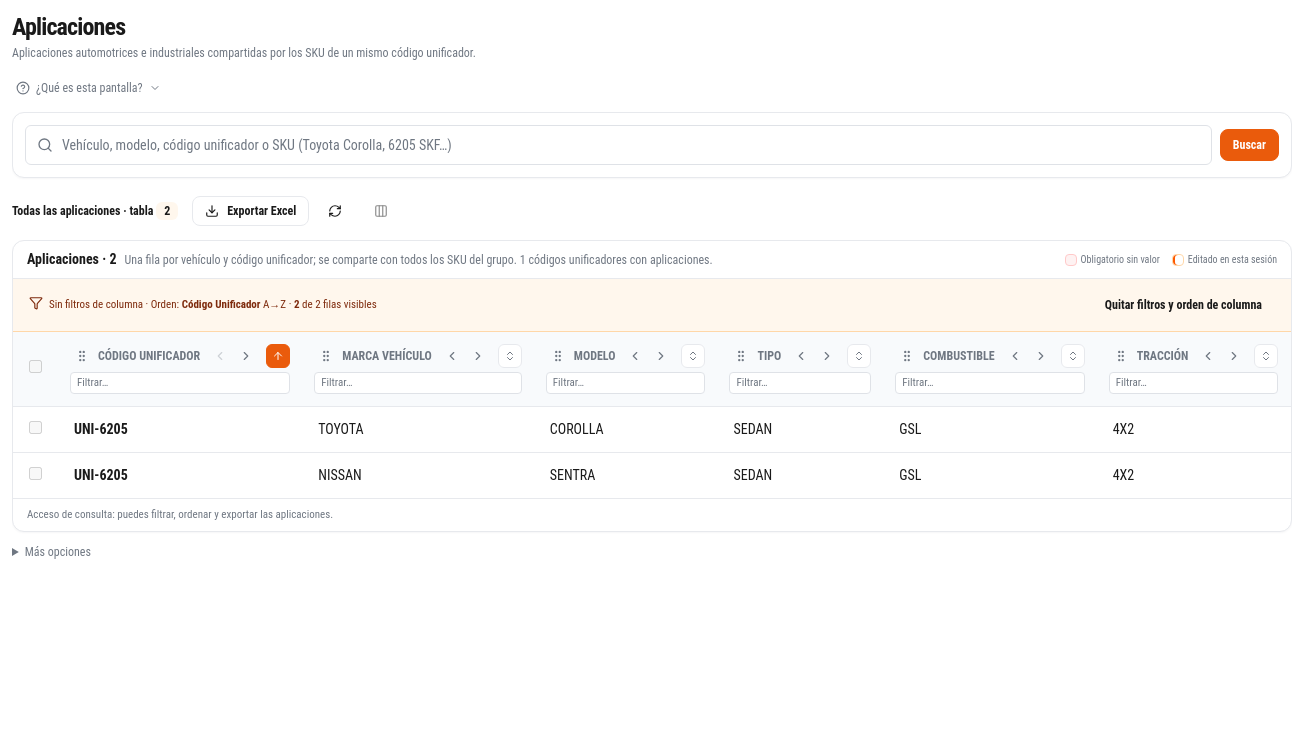
applications reference layout › combines vehicle terms across columns and clears its active search without a catalog lookup
Replace the text in the search field named "Buscar aplicaciones" with "toyota corolla 2014". click: (618, 144)
box: [25, 124, 1212, 164]
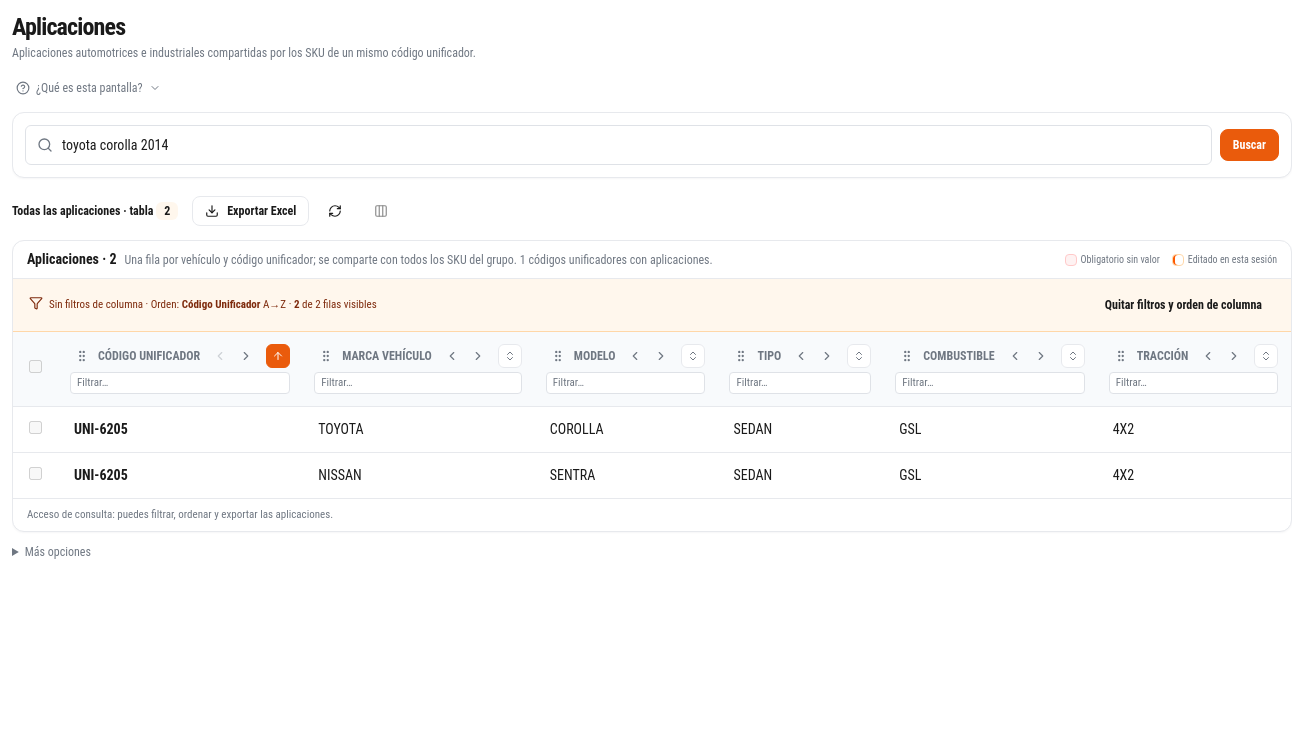
Click the button "Buscar". click: click(1249, 144)
box: [1220, 128, 1279, 160]
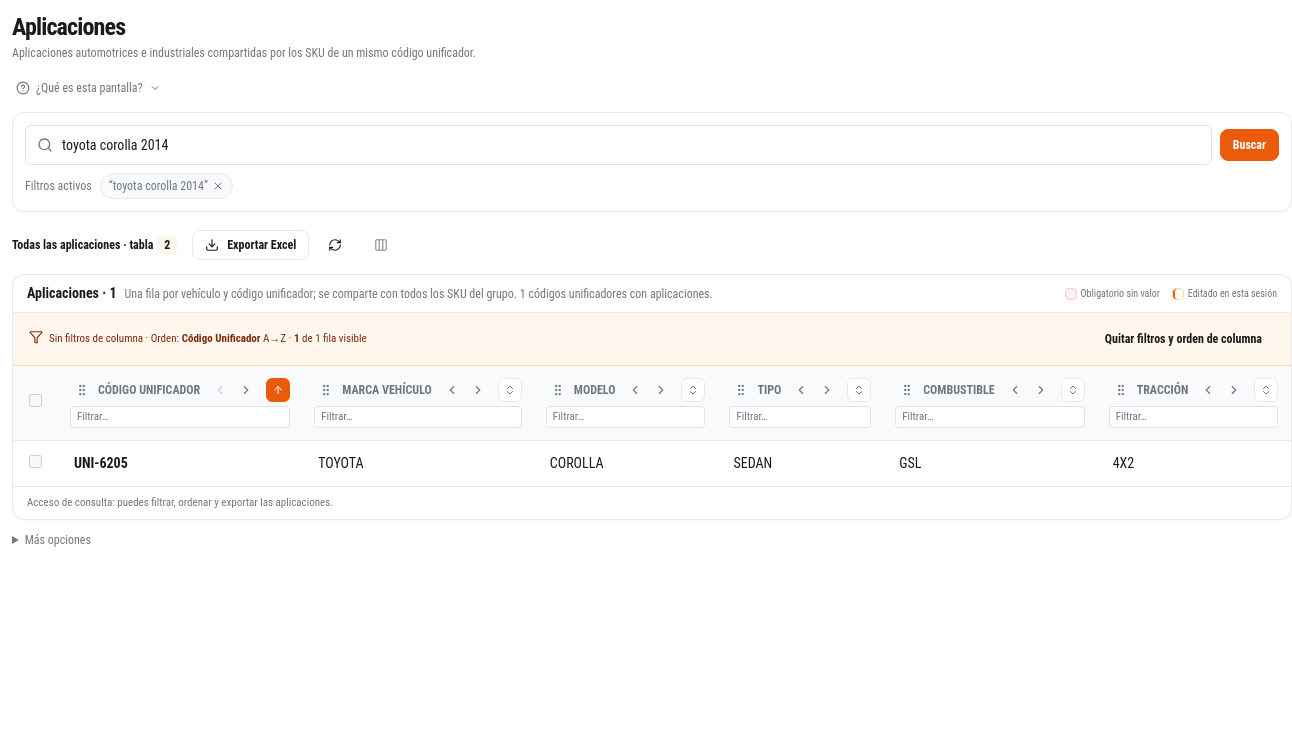
Expected: the text "TOYOTA" is shown, [302, 440, 534, 486]
Result: the text "NISSAN" is gone
Click the button with aria-label "Quitar búsqueda toyota corolla 2014". click: click(166, 186)
box: [100, 172, 233, 198]
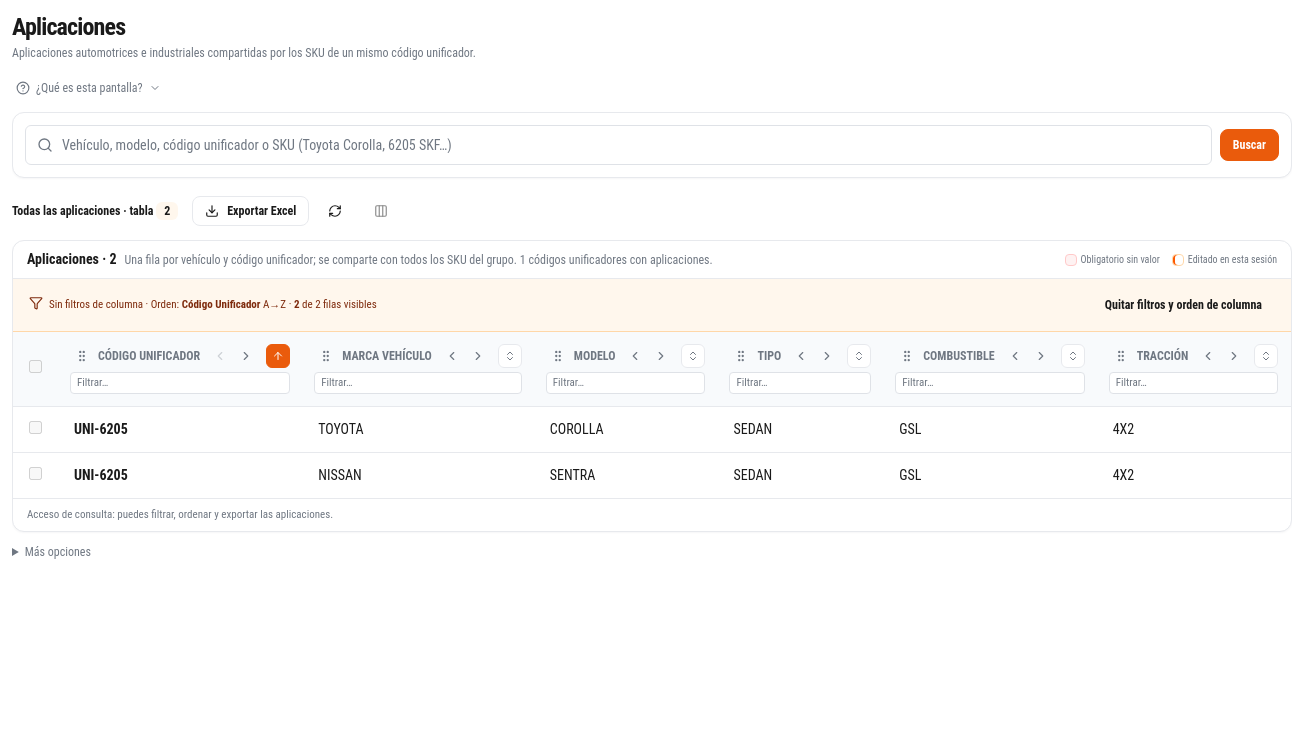
Result: the text "NISSAN" is shown at [302, 452, 534, 498]
